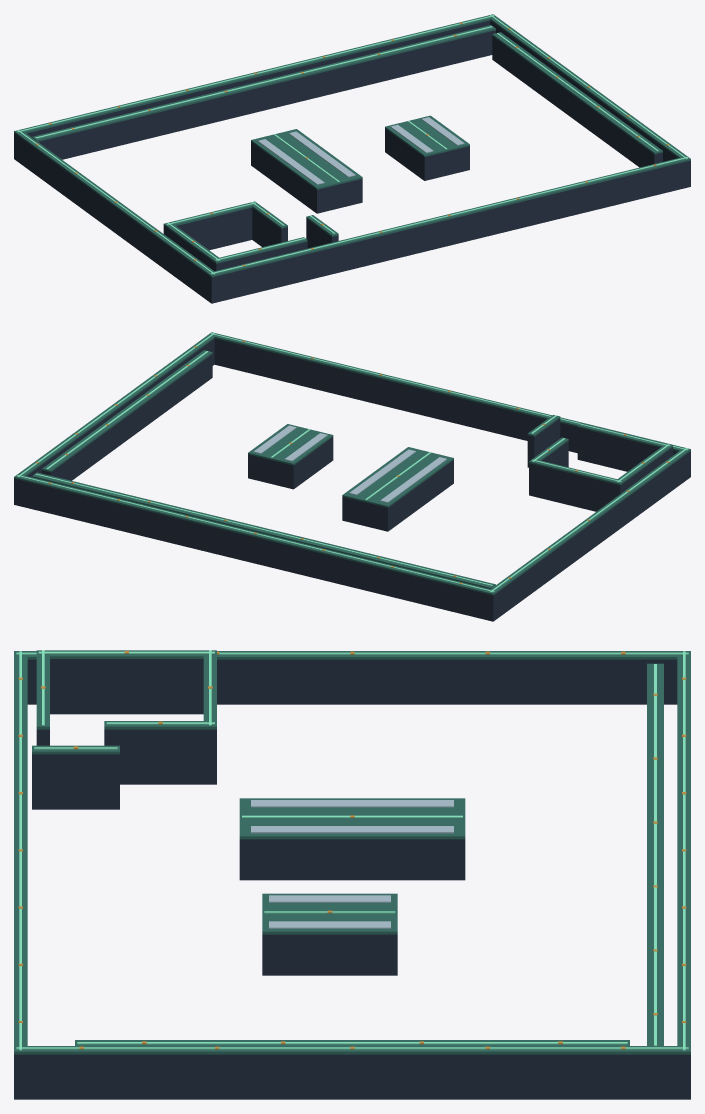
The model's file is campaign_rescue.runtime.gltf.
The picture shows the model from 3 angles, top to bottom: view 1: azimuth 30°, elevation 25°; view 2: azimuth 150°, elevation 25°; view 3: azimuth 270°, elevation 25°; orthographic projection. The views are drawn at different scales.
Visible parts, largest first — view 1: BATCH material 0, BATCH material 1, BATCH material 3, BATCH material 2; view 2: BATCH material 0, BATCH material 1, BATCH material 3, BATCH material 2; view 3: BATCH material 0, BATCH material 1, BATCH material 3, BATCH material 2.
Boxes of the visible parts, <box> form: BATCH material 0: <box>14,20,690,303</box>; BATCH material 1: <box>14,14,690,277</box>; BATCH material 3: <box>16,15,688,274</box>; BATCH material 2: <box>258,117,464,184</box>; BATCH material 0: <box>14,338,690,621</box>; BATCH material 1: <box>14,332,690,595</box>; BATCH material 3: <box>16,333,688,592</box>; BATCH material 2: <box>253,425,446,502</box>; BATCH material 0: <box>14,659,690,1099</box>; BATCH material 1: <box>14,650,690,1054</box>; BATCH material 3: <box>16,650,688,1050</box>; BATCH material 2: <box>251,800,453,928</box>.
Bounding box in the file's own units: 21 × 1.45 × 15.
